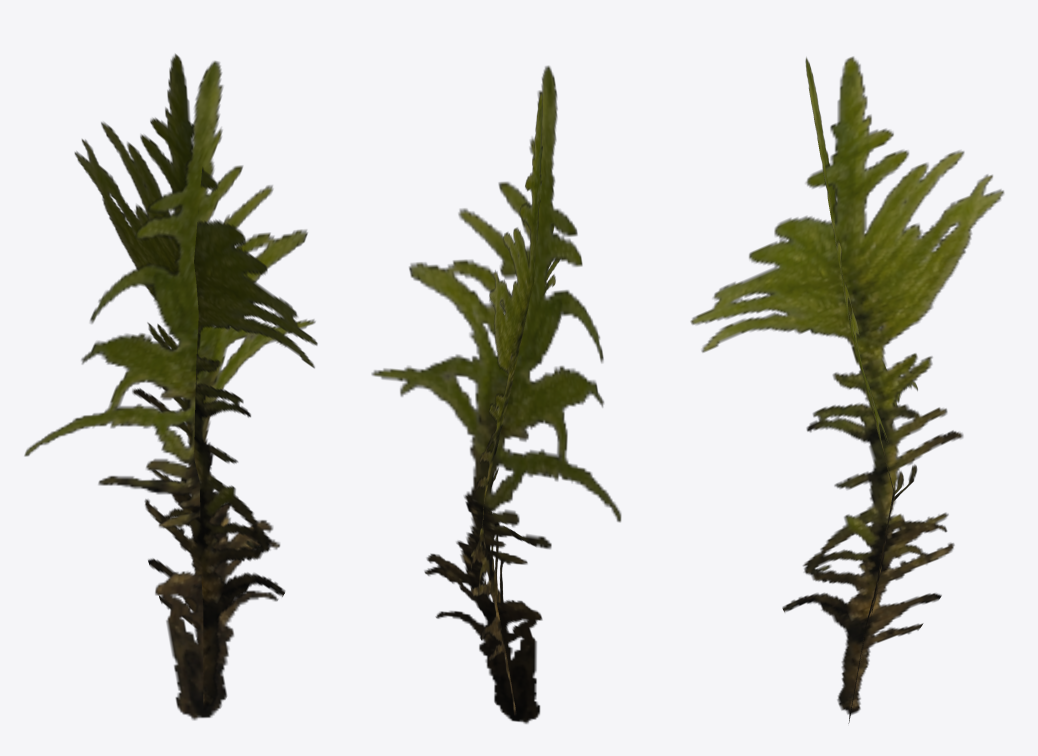
The model's file is moss_03.glb.
The picture shows the model from 3 angles, left to right: view 1: azimuth 30°, elevation 25°; view 2: azimuth 150°, elevation 25°; view 3: azimuth 270°, elevation 25°; orthographic projection. The views are drawn at different scales.
Visible parts, largest first — view 1: IslandMoss03; view 2: IslandMoss03; view 3: IslandMoss03.
Part boxes in pixels (bbox=[...]): IslandMoss03: bbox=[24, 53, 317, 720]; IslandMoss03: bbox=[372, 66, 621, 723]; IslandMoss03: bbox=[690, 56, 1003, 723].
Size of the model in its own units: 0.0128 by 0.0301 by 0.013.
Materials: 1 (1 with a texture image).
